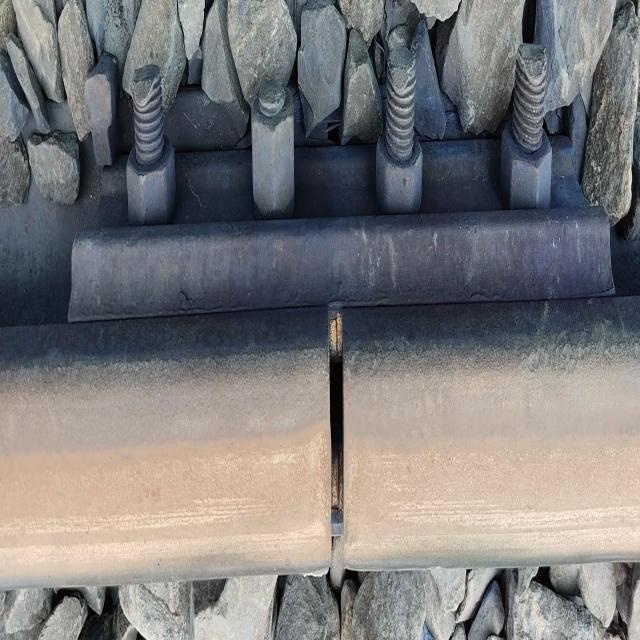Good Joint: (69, 33, 616, 319)
